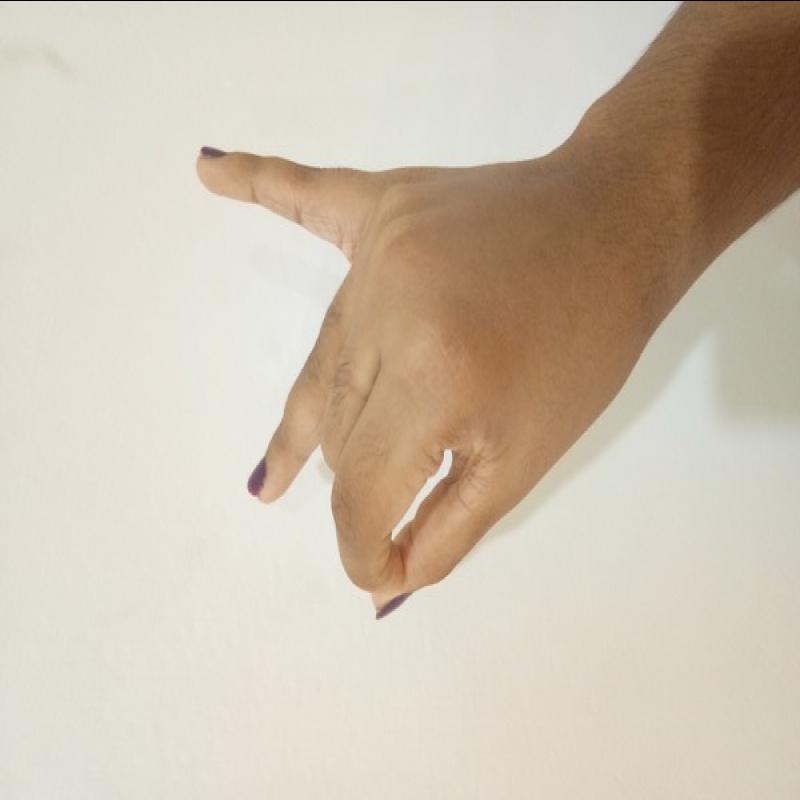Katakam: (169, 126, 680, 627)
